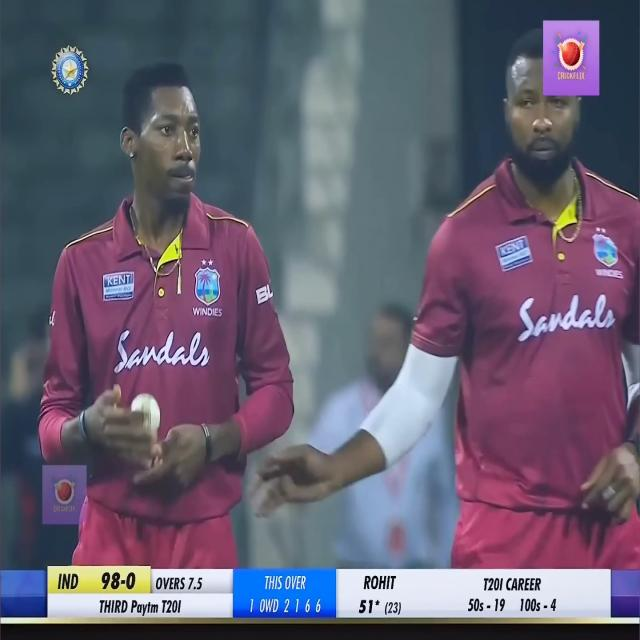fully_visible: (128, 596, 164, 626)
